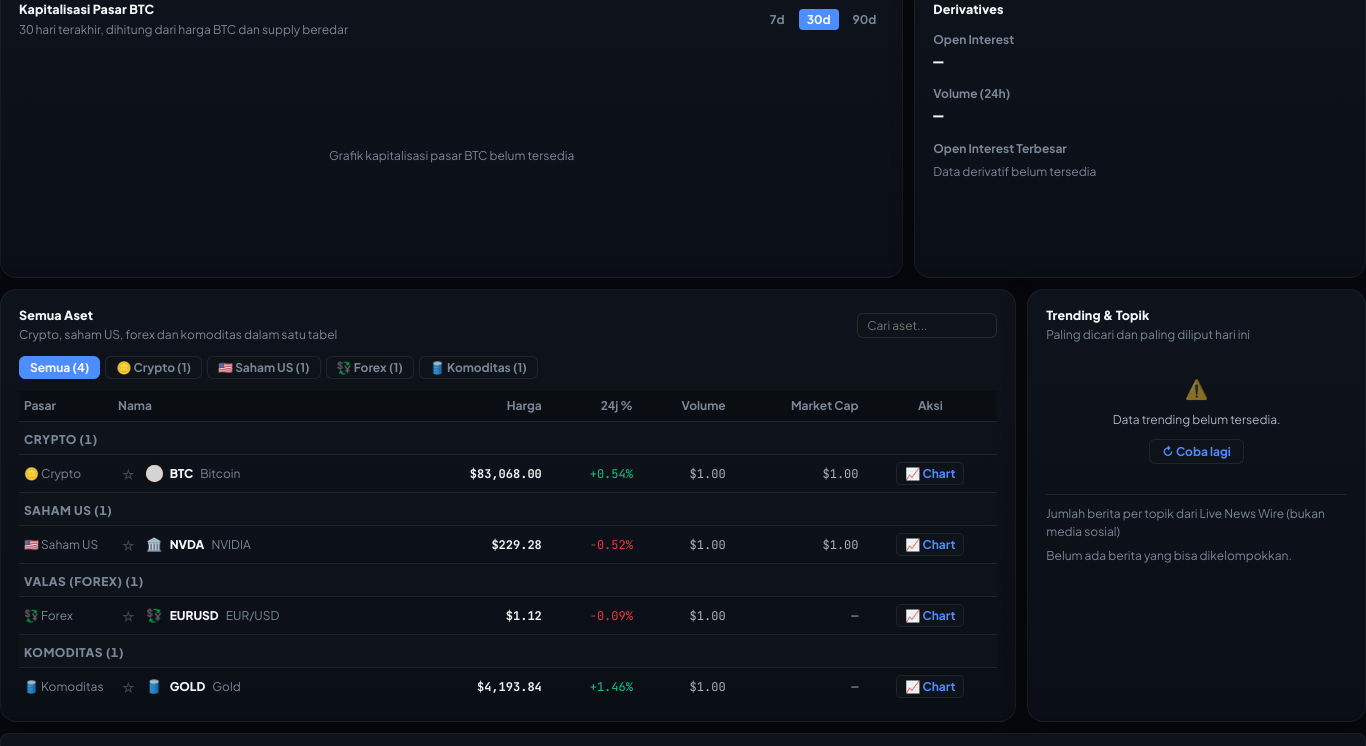
Test case: D-4 cross-market table is grouped › drops the grouping once a single market is selected
This screenshot has width=1366, height=746.
(page scrolled)
Click the button "💱 Forex (1)" at [370, 368], box [326,356,414,379]
(page scrolled)
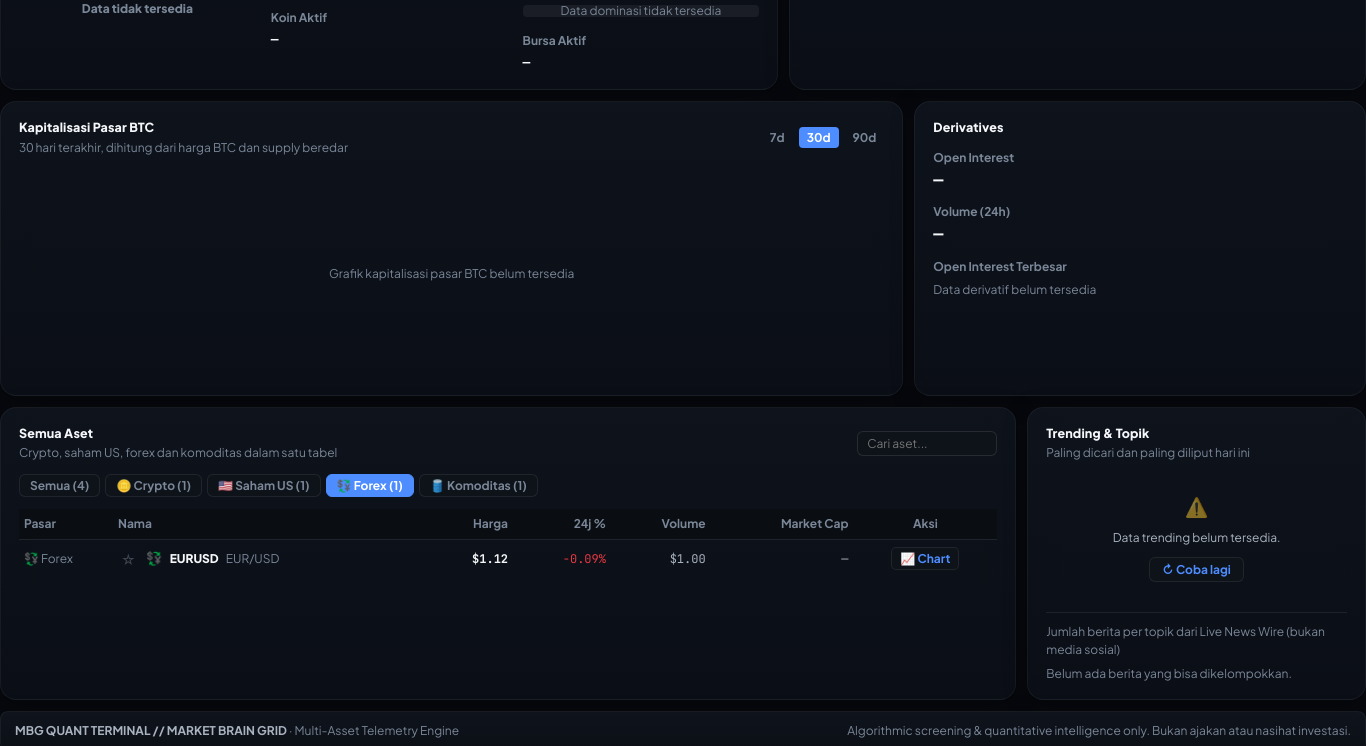
Check: no rows with class "cmc-group-row" are shown
